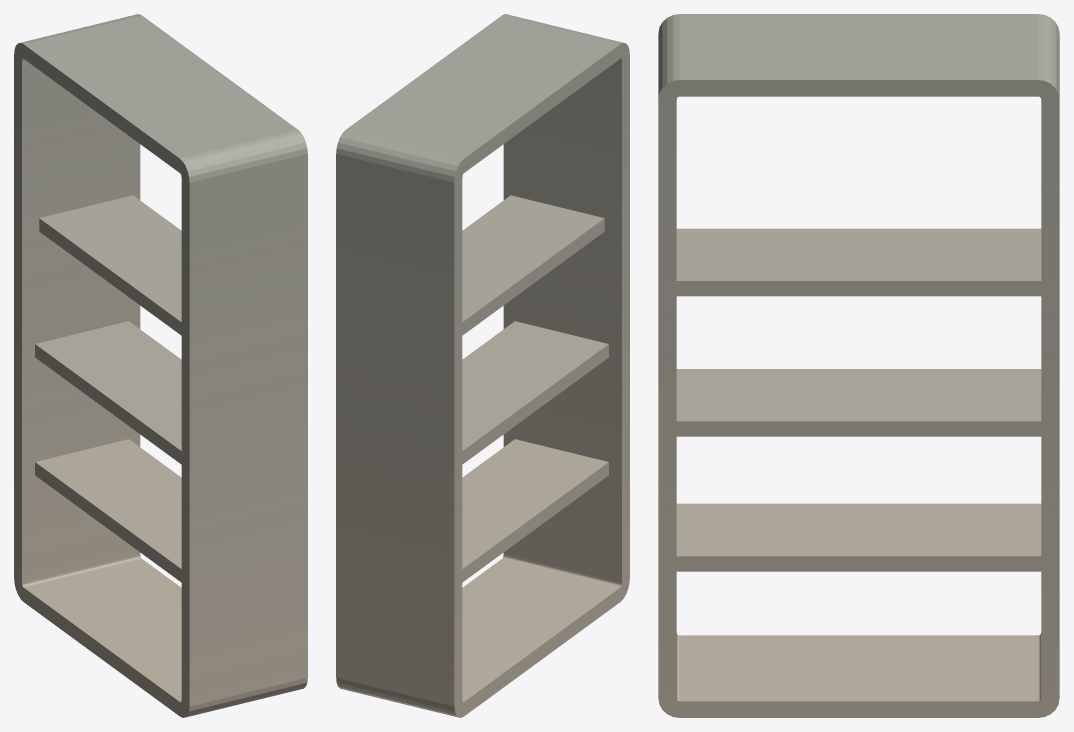
The model's file is shelf.fbx.
The picture shows the model from 3 angles, left to right: view 1: azimuth 30°, elevation 25°; view 2: azimuth 150°, elevation 25°; view 3: azimuth 270°, elevation 25°; orthographic projection. The views are drawn at different scales.
Parts seen in each view (by area): view 1: Shelf; view 2: Shelf; view 3: Shelf.
Part boxes in pixels (x1,y1,x2,y2): Shelf: (14, 14, 307, 717); Shelf: (336, 14, 629, 717); Shelf: (658, 14, 1059, 717).
Bounding box in the file's own units: 51.05 × 230 × 131.
